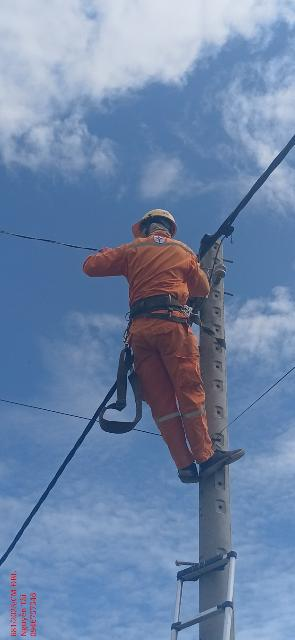harness: (127, 294, 203, 326)
helmet: (130, 207, 180, 240)
shoes: (191, 442, 256, 473), (166, 458, 212, 490)
